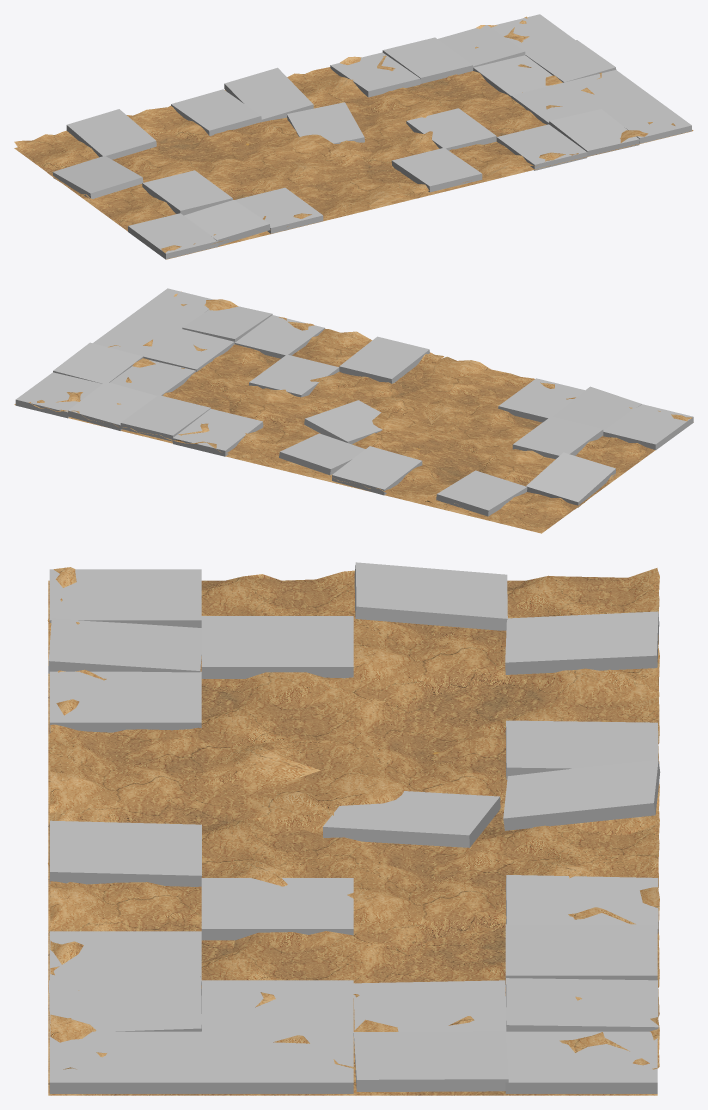
File: Floor_Tiles_8m_Broken.fbx
3 views of the same model, one above another, from view 1: azimuth 30°, elevation 25°; view 2: azimuth 150°, elevation 25°; view 3: azimuth 270°, elevation 25° (orthographic). The views are drawn at different scales.
Parts seen in each view (by area): view 1: Geom_Broken_Tiles, Geom_Sand, Geom_Floor_Sand_8m; view 2: Geom_Broken_Tiles, Geom_Sand, Geom_Floor_Sand_8m; view 3: Geom_Broken_Tiles, Geom_Sand, Geom_Floor_Sand_8m.
Part boxes in pixels (x1,y1,x2,y2): Geom_Broken_Tiles: (52,14,691,259); Geom_Sand: (14,16,675,252); Geom_Floor_Sand_8m: (14,79,693,259); Geom_Broken_Tiles: (15,288,693,516); Geom_Sand: (29,291,692,526); Geom_Floor_Sand_8m: (14,355,655,533); Geom_Broken_Tiles: (48,562,660,1093); Geom_Sand: (47,567,659,1070); Geom_Floor_Sand_8m: (48,580,657,1095).
Size of the model in its own units: 800 by 30.62 by 402.
